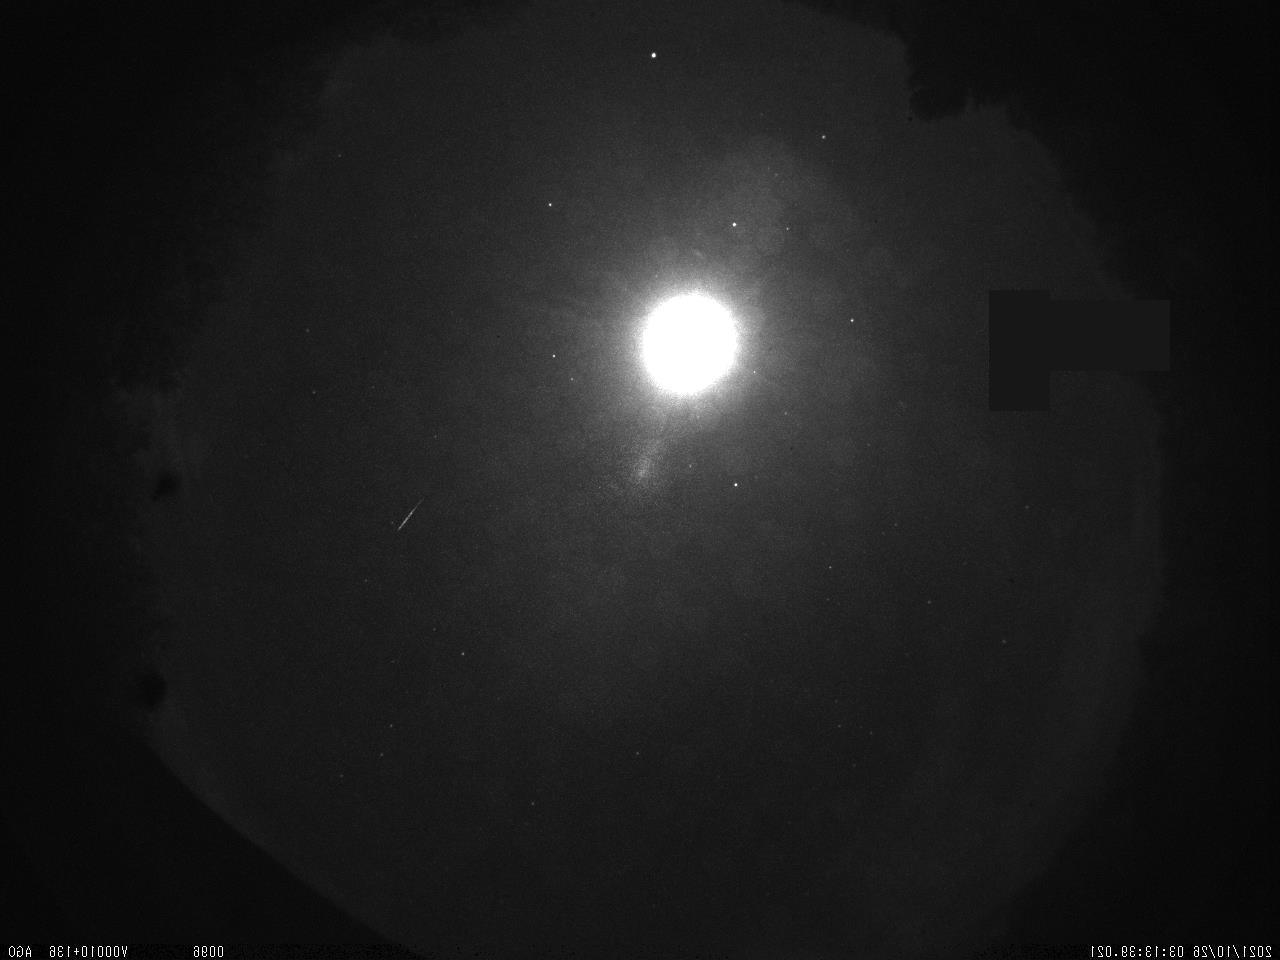meteor: (389, 491, 424, 535)
